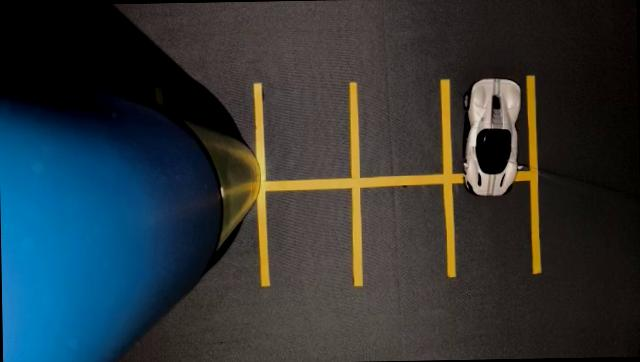toy_car: (442, 57, 540, 212)
